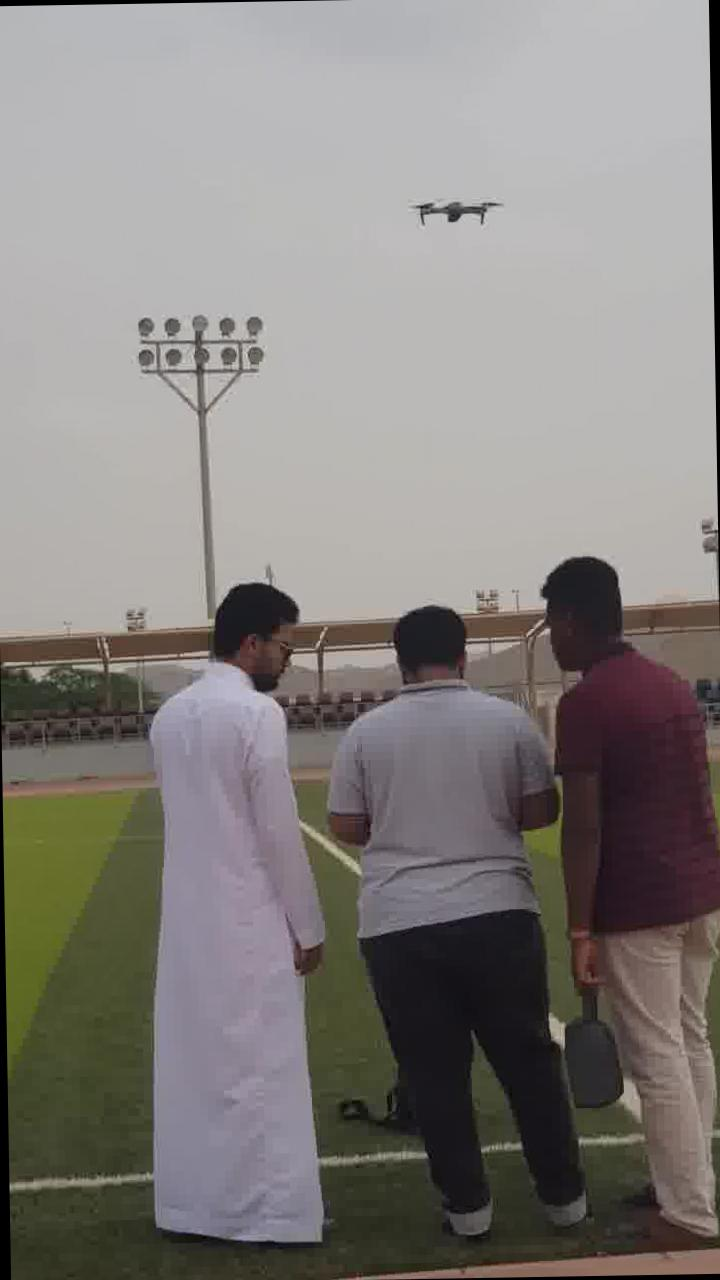drone: (403, 186, 504, 228)
